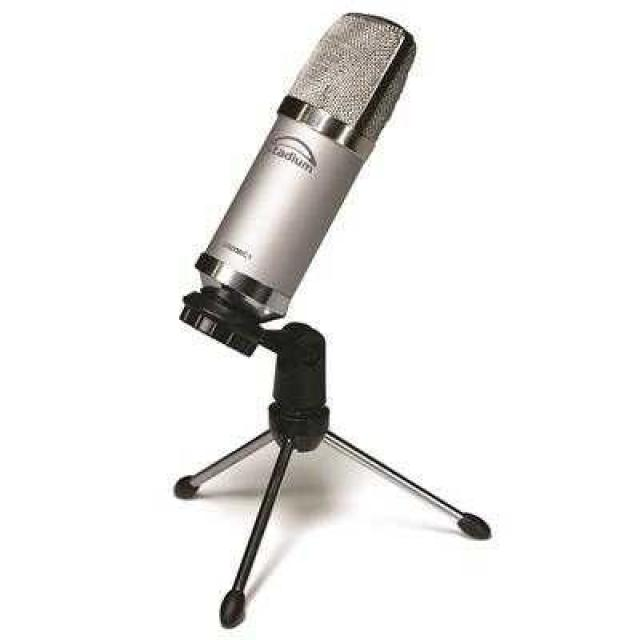microphone: (190, 15, 416, 339)
